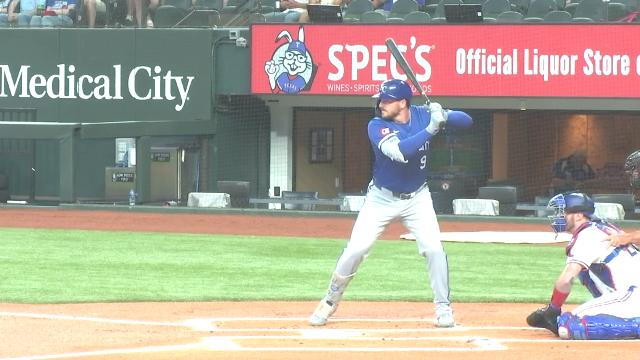bat: (387, 37, 431, 105)
